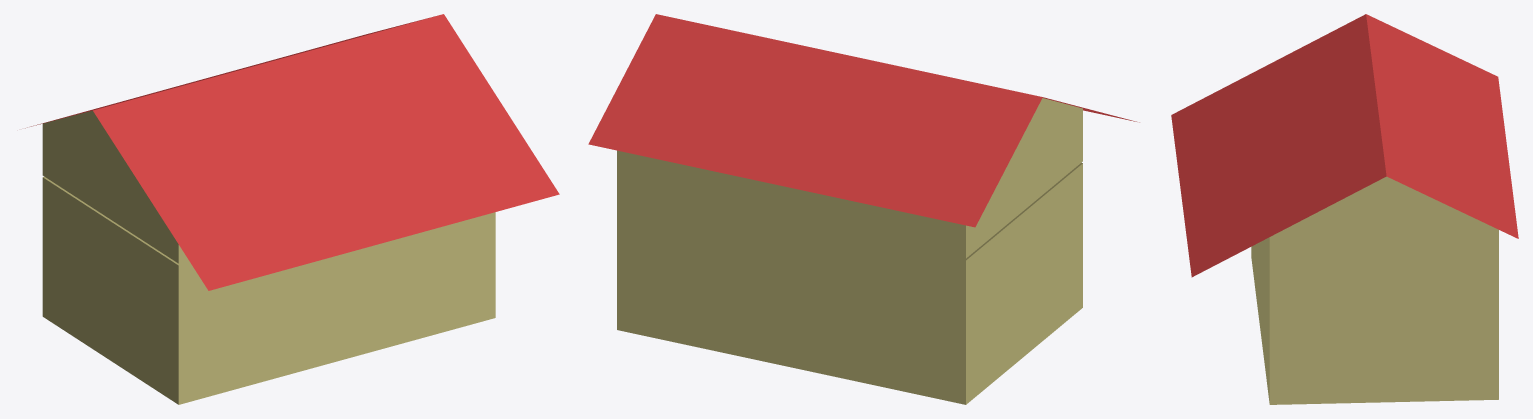
The picture shows the model from 3 angles, left to right: view 1: azimuth 30°, elevation 25°; view 2: azimuth 150°, elevation 25°; view 3: azimuth 270°, elevation 25°; orthographic projection. The views are drawn at different scales.
Size of the model in its own units: 21.25 by 18.38 by 13.64.
